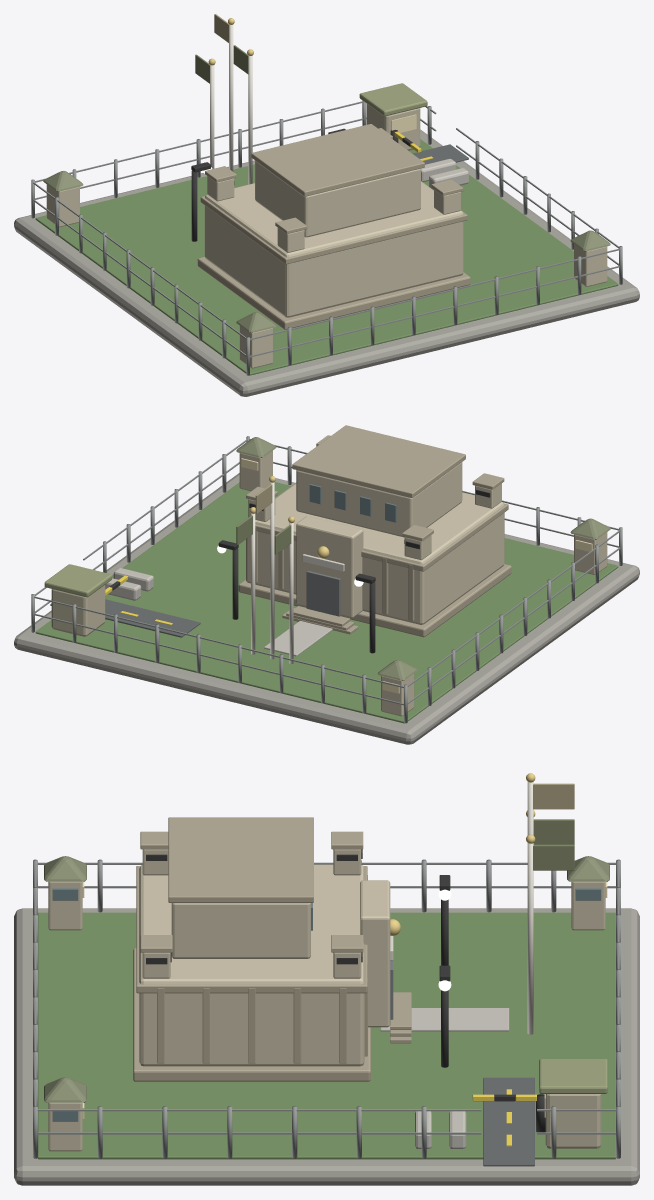
The model's file is goldvault_7.glb.
3 renders of one model, top to bottom at view 1: azimuth 30°, elevation 25°; view 2: azimuth 150°, elevation 25°; view 3: azimuth 270°, elevation 25°, orthographic. The views are drawn at different scales.
Parts seen in each view (by area): view 1: Cube.001, Cube.016, Cube, Cube.037, Cube.036, Cube.015, Cube.029, Cube.007, Cube.064, Cube.061, Cube.067, Cube.006 (+11 smaller); view 2: Cube.001, Cube, Cube.016, Cube.037, Cube.036, Cube.030, Cube.015, Cube.006, Cube.002, Cube.007, Cube.031, Cube.029 (+21 smaller); view 3: Cube.001, Cube, Cube.016, Cube.037, Cube.036, Cube.015, Cube.002, Cube.030, Cube.029, Cube.006, Cube.007, Cube.014 (+31 smaller).
Boxes of the visible parts, x1,y1,x2,y2 form: Cube.001: [35, 139, 618, 375]; Cube.016: [204, 181, 463, 317]; Cube: [14, 129, 639, 396]; Cube.037: [251, 124, 424, 196]; Cube.036: [255, 160, 420, 237]; Cube.015: [197, 257, 470, 329]; Cube.029: [200, 181, 467, 264]; Cube.007: [359, 83, 427, 116]; Cube.064: [574, 244, 607, 286]; Cube.061: [239, 326, 272, 368]; Cube.067: [46, 184, 79, 227]; Cube.006: [366, 104, 420, 150]; Cube.001: [35, 482, 618, 723]; Cube: [14, 473, 639, 744]; Cube.016: [246, 483, 504, 624]; Cube.037: [292, 425, 465, 497]; Cube.036: [296, 462, 462, 537]; Cube.030: [296, 516, 363, 617]; Cube.015: [238, 564, 511, 637]; Cube.006: [51, 585, 105, 636]; Cube.002: [50, 599, 200, 637]; Cube.007: [44, 564, 112, 597]; Cube.031: [306, 571, 340, 616]; Cube.029: [242, 483, 508, 571]; Cube.001: [37, 912, 616, 1159]; Cube: [14, 908, 639, 1185]; Cube.016: [139, 864, 364, 1066]; Cube.037: [168, 817, 313, 902]; Cube.036: [171, 903, 310, 958]; Cube.015: [133, 948, 370, 1081]; Cube.002: [483, 1077, 534, 1166]; Cube.030: [360, 880, 390, 1027]; Cube.029: [136, 866, 367, 993]; Cube.006: [545, 1094, 601, 1148]; Cube.007: [539, 1059, 607, 1093]; Cube.014: [380, 1008, 509, 1031].
Size of the model in its own units: 2.92 by 1.39 by 2.92.
